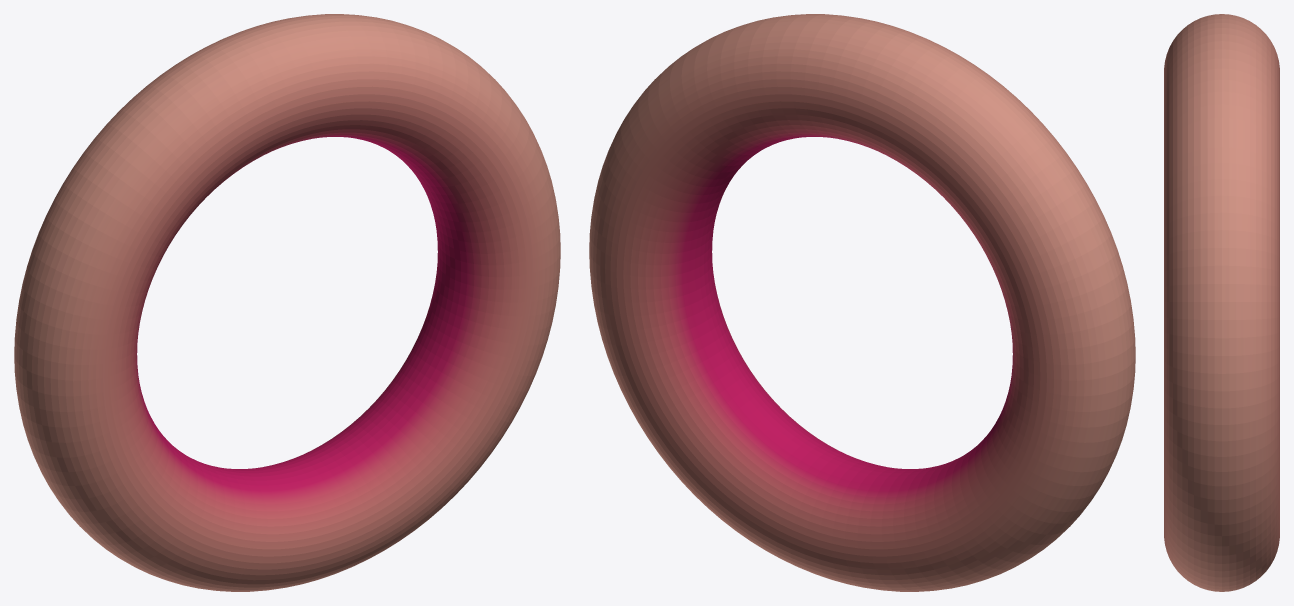
3 views of the same model, side by side, from view 1: azimuth 30°, elevation 25°; view 2: azimuth 150°, elevation 25°; view 3: azimuth 270°, elevation 25° (orthographic). The views are drawn at different scales.
Parts seen in each view (by area): view 1: world; view 2: world; view 3: world.
Part boxes in pixels (x1,y1,x2,y2): world: [14, 14, 560, 591]; world: [589, 14, 1135, 591]; world: [1164, 14, 1279, 591].
Size of the model in its own units: 32.53 by 32.53 by 6.52.
